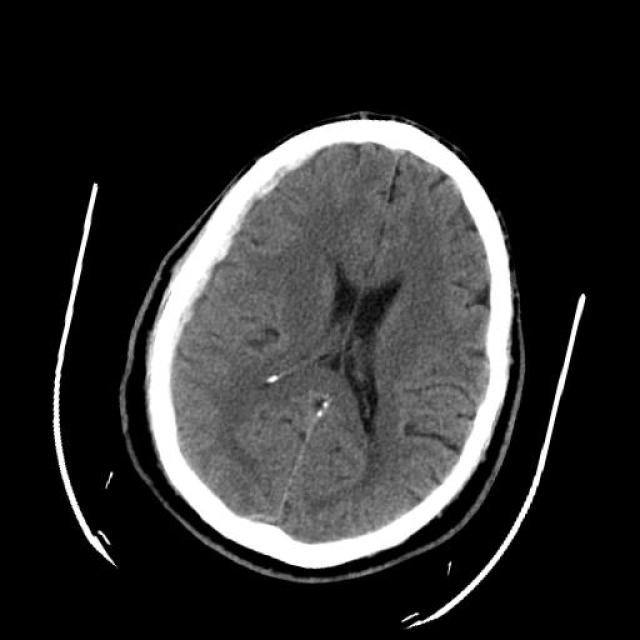Subdural: (108, 103, 324, 465)
